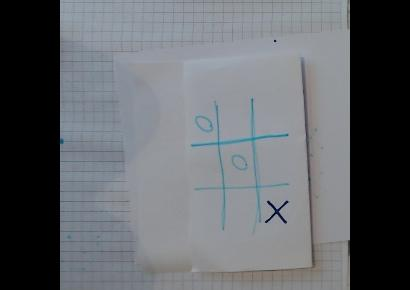O: (192, 111, 212, 136), (230, 150, 248, 175)
X: (264, 196, 289, 226)
grid: (187, 92, 297, 230)
